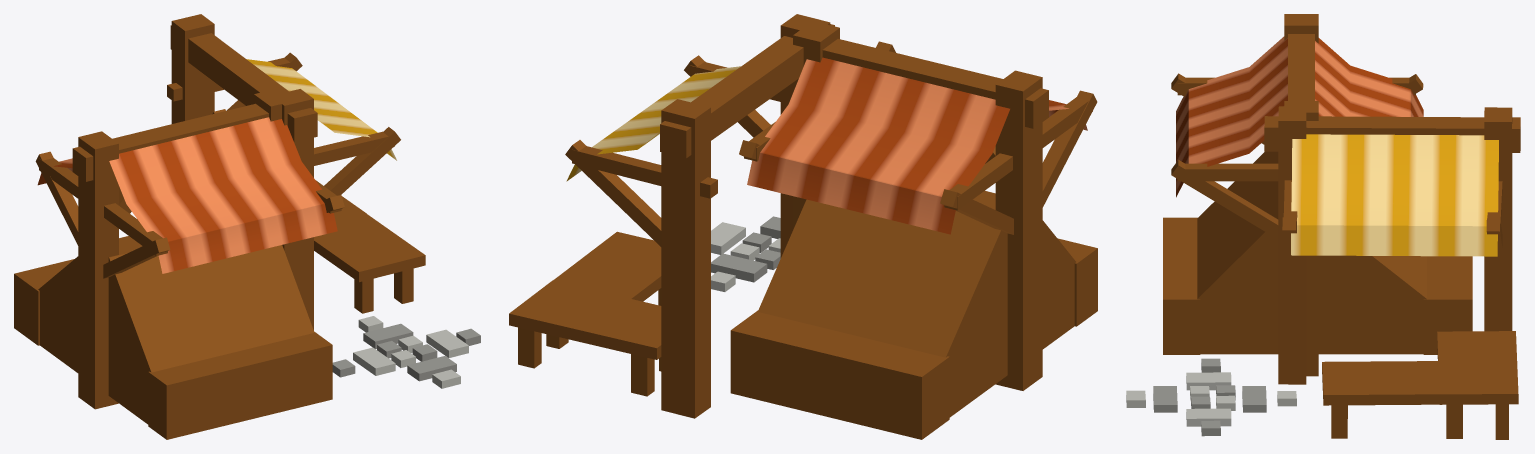
File: smallmarket.fbx
The picture shows the model from 3 angles, left to right: view 1: azimuth 30°, elevation 25°; view 2: azimuth 150°, elevation 25°; view 3: azimuth 270°, elevation 25°; orthographic projection. The views are drawn at different scales.
Parts seen in each view (by area): view 1: polySurface73; view 2: polySurface73; view 3: polySurface73.
Part boxes in pixels (x1,y1,x2,y2): polySurface73: (14,14,480,439); polySurface73: (509,14,1097,439); polySurface73: (1126,14,1520,439).
Bounding box in the file's own units: 107 × 74.59 × 101.
1 material, 1 textured.
